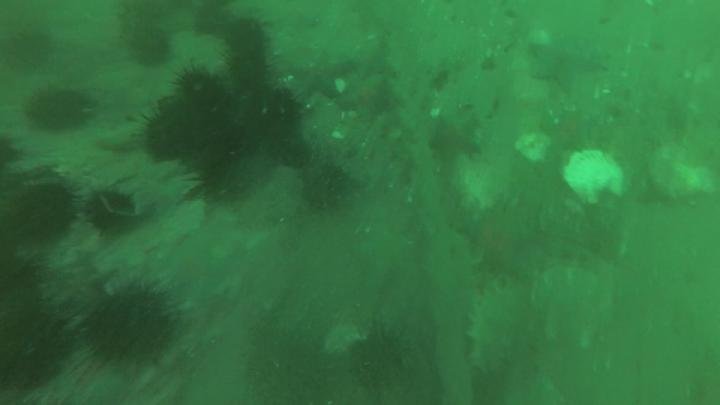echinus: (87, 293, 177, 367), (352, 335, 430, 405), (4, 185, 72, 246), (1, 330, 59, 391), (189, 112, 248, 167), (28, 87, 95, 130), (210, 151, 269, 199), (240, 94, 299, 140), (141, 118, 193, 165), (301, 162, 349, 208), (178, 72, 226, 112), (125, 31, 173, 70), (4, 32, 49, 73), (3, 290, 41, 337), (88, 194, 137, 230), (225, 20, 266, 56), (230, 51, 268, 85), (191, 8, 218, 36), (279, 144, 315, 164)
holothurian: (467, 279, 519, 374)
scallop: (532, 267, 609, 352), (564, 148, 626, 201), (332, 128, 347, 142)
starfish: (462, 203, 535, 278), (528, 36, 607, 91), (290, 51, 350, 100), (430, 111, 481, 163), (540, 109, 597, 153), (345, 73, 391, 119)
